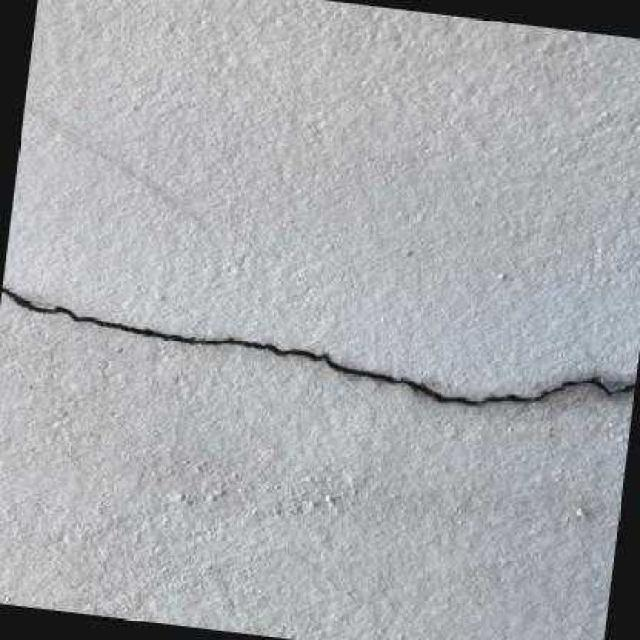D00: (1, 284, 635, 404)
